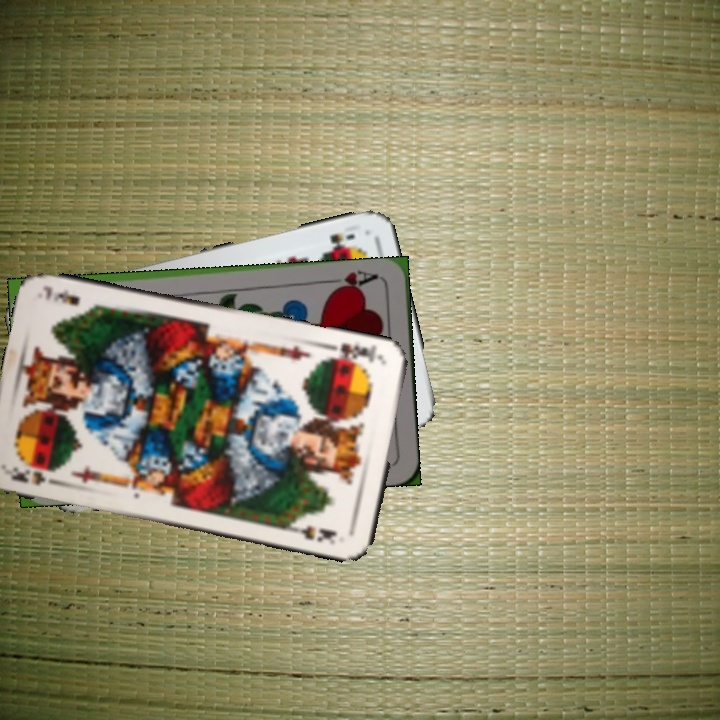HA: (323, 266, 381, 295)
SK: (324, 338, 385, 367), (6, 462, 65, 490), (326, 229, 358, 252)
